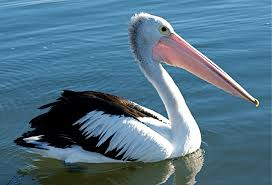pelican: (14, 12, 259, 165)
